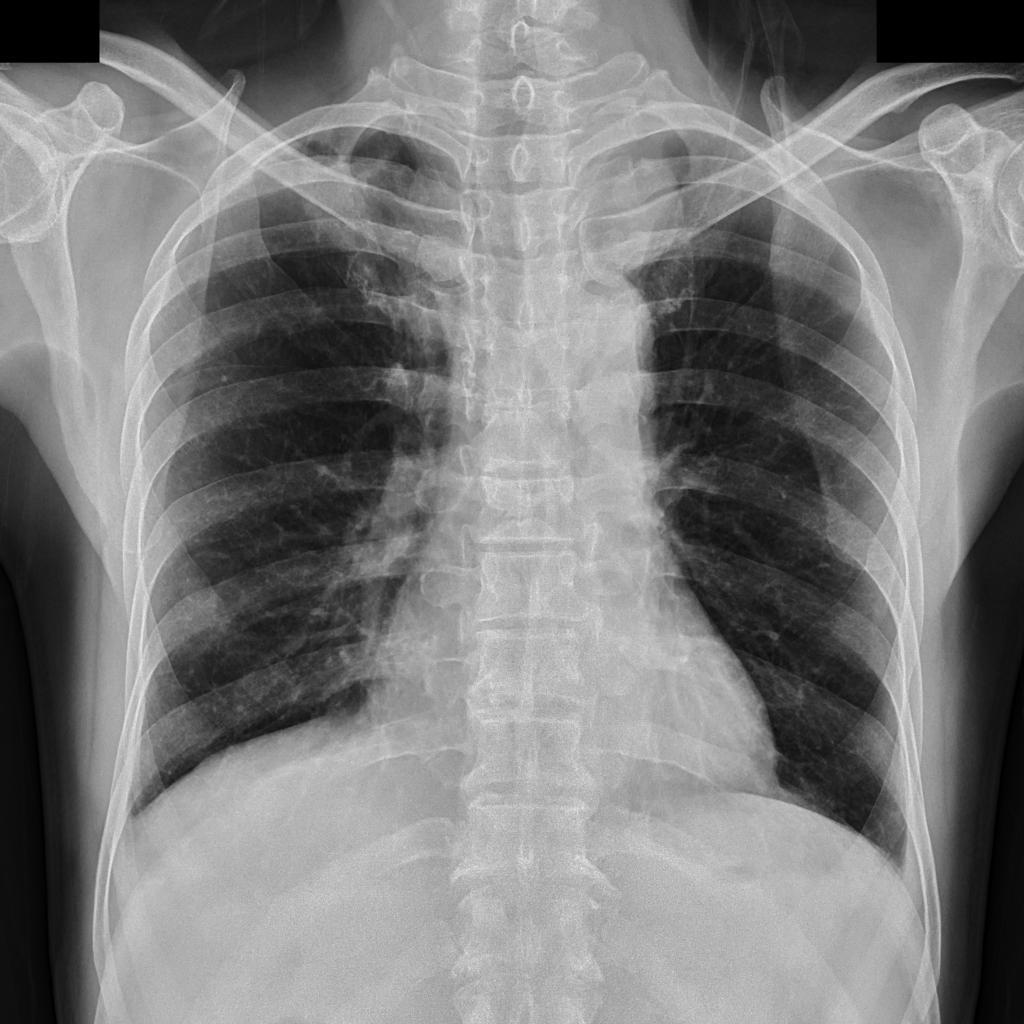Nodule: (600, 159, 685, 272), (219, 374, 228, 384)
